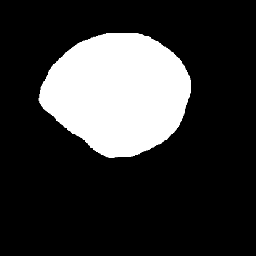mass: (39, 32, 187, 155)
